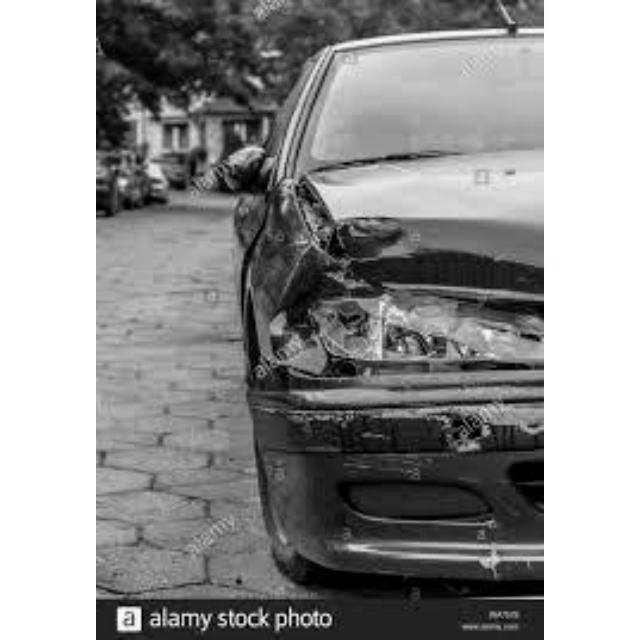Headlight-damage: (258, 283, 542, 380)
bonnet-dent: (282, 173, 542, 282)
front-bumper-dent: (252, 366, 543, 583)
